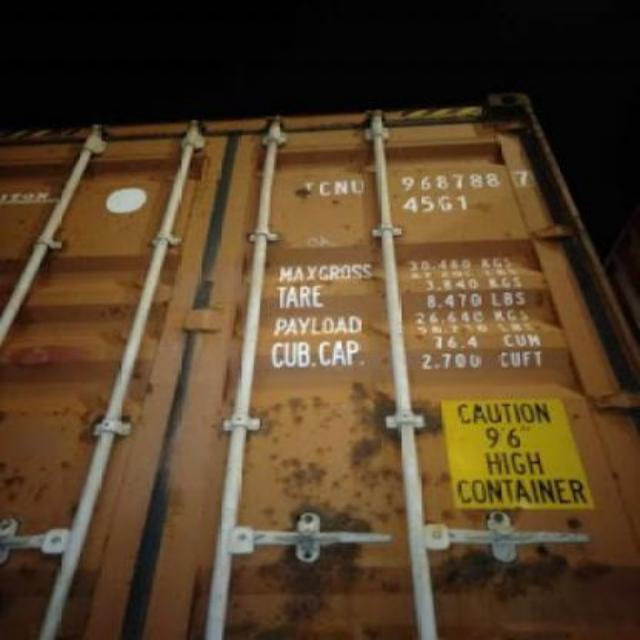6: (421, 174, 434, 190)
7: (450, 173, 468, 191), (512, 172, 530, 184)
8: (436, 172, 449, 194), (471, 174, 484, 190), (486, 172, 498, 188)
9: (398, 176, 414, 188)
C: (321, 180, 334, 196)
N: (334, 180, 350, 196)
T: (302, 180, 316, 196)
U: (352, 178, 366, 194)
